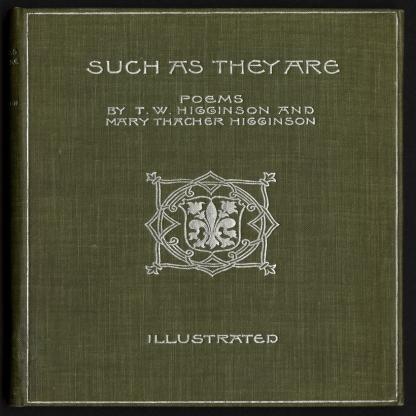book: (9, 6, 403, 406)
